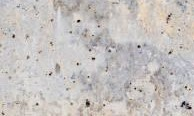Spalling: (1, 1, 194, 116)
